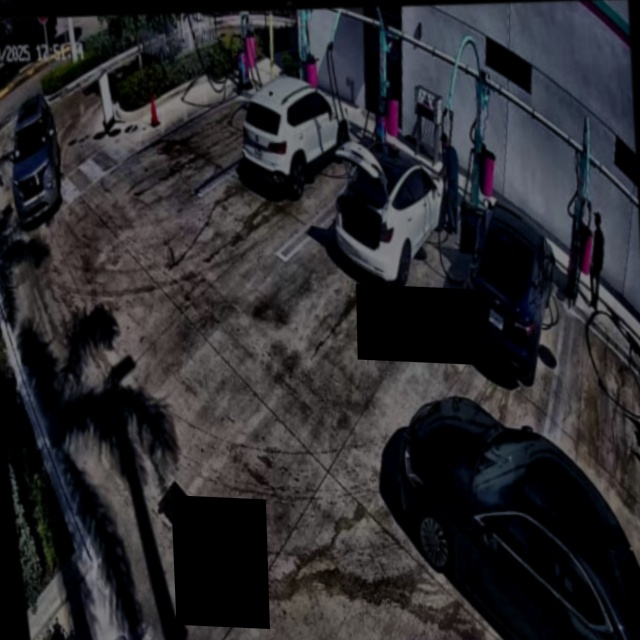Car: (394, 380, 640, 640), (325, 132, 452, 290), (459, 197, 562, 389), (236, 66, 356, 206)
